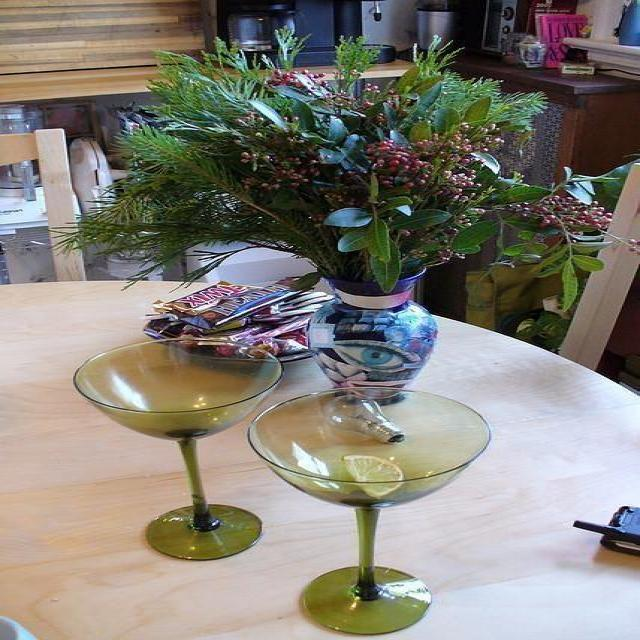glass-wine: (247, 386, 493, 636), (72, 342, 281, 561)
